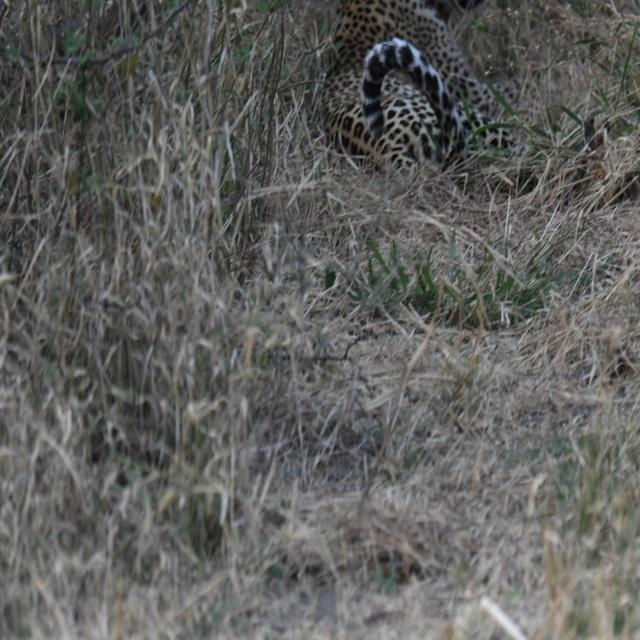Leopard: (310, 6, 550, 180)
